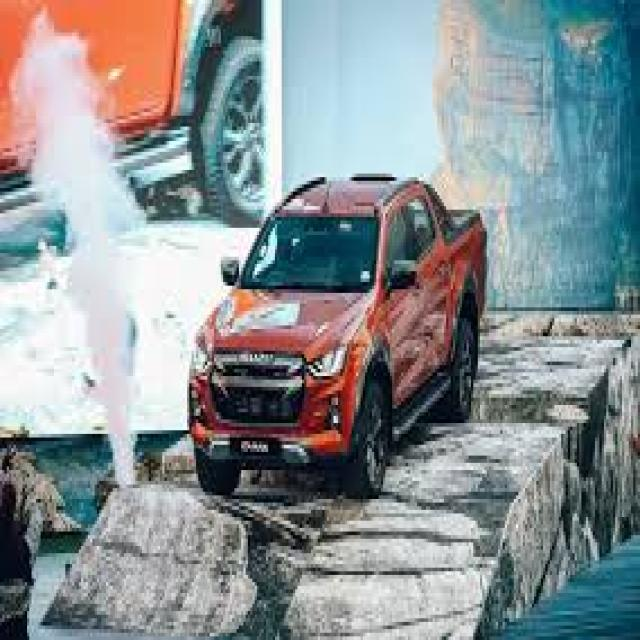Pickup Trucks: (187, 173, 489, 502)
